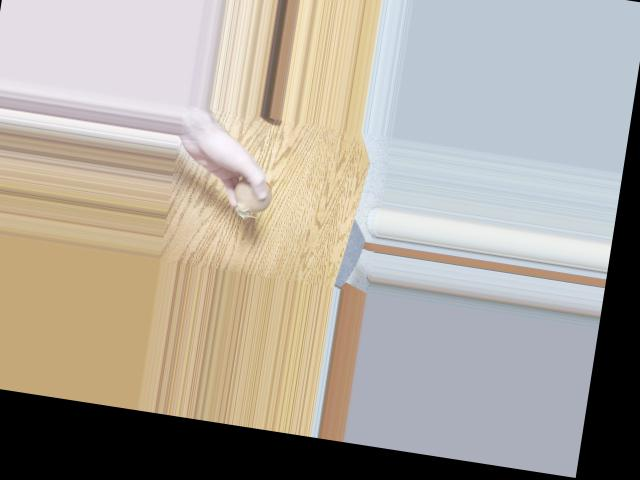onion: (238, 178, 272, 212)
